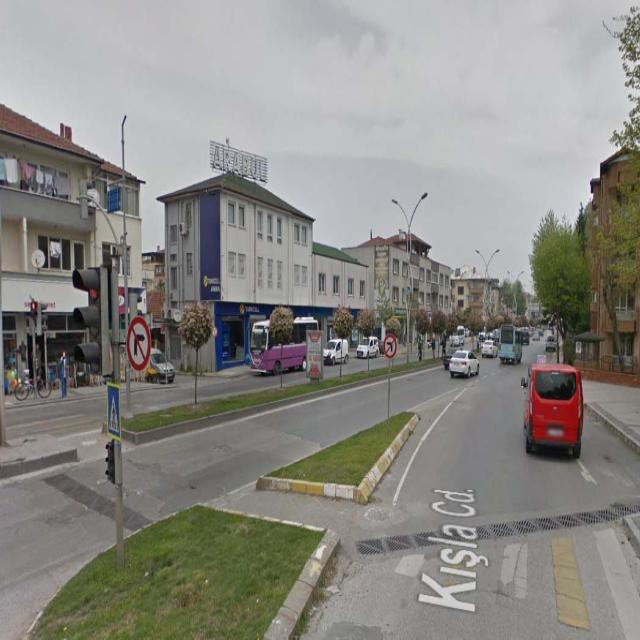sagadonulmez: (128, 317, 149, 369)
soladonulmez: (383, 334, 398, 359)
